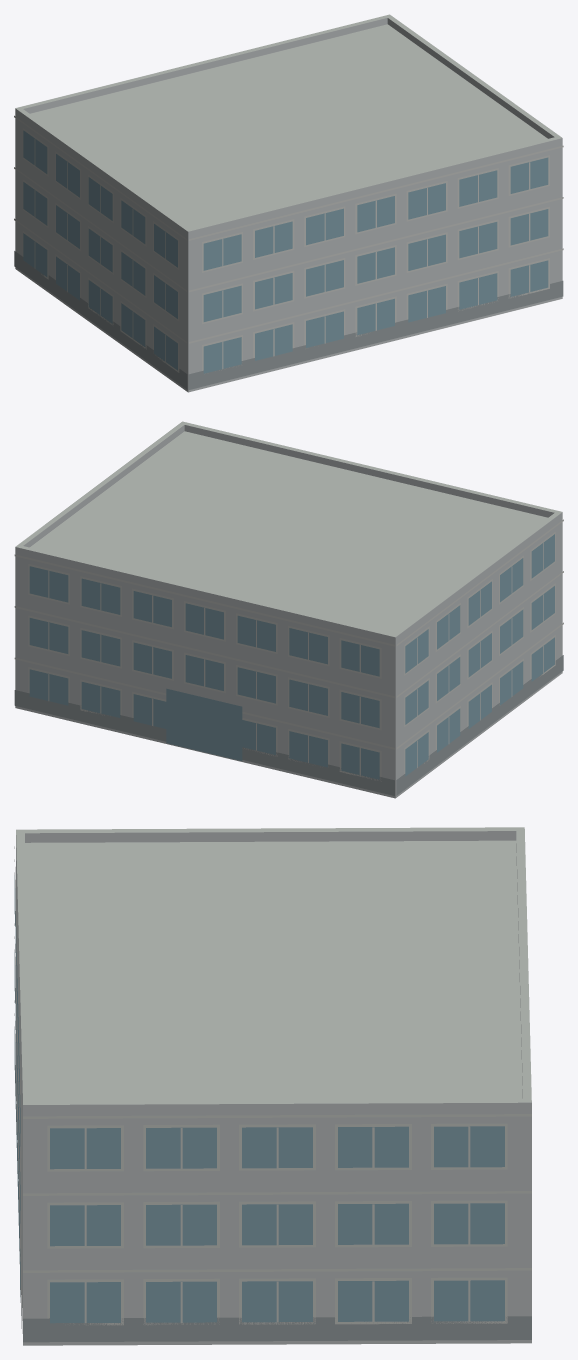
The model's file is public-82286206-3449-48c2-8721-047170d2a3fb.glb.
3 views of the same model, one above another, from view 1: azimuth 30°, elevation 25°; view 2: azimuth 150°, elevation 25°; view 3: azimuth 270°, elevation 25° (orthographic). The views are drawn at different scales.
Parts seen in each view (by area): view 1: public-82286206-3449-48c2-8721-047170d2a3fb; view 2: public-82286206-3449-48c2-8721-047170d2a3fb; view 3: public-82286206-3449-48c2-8721-047170d2a3fb.
Part boxes in pixels (left/top/right/bottom): public-82286206-3449-48c2-8721-047170d2a3fb: left=14, top=14, right=563, bottom=392; public-82286206-3449-48c2-8721-047170d2a3fb: left=14, top=421, right=563, bottom=798; public-82286206-3449-48c2-8721-047170d2a3fb: left=14, top=827, right=531, bottom=1345.
Bounding box in the file's own units: 22.79 × 9.15 × 18.95.
